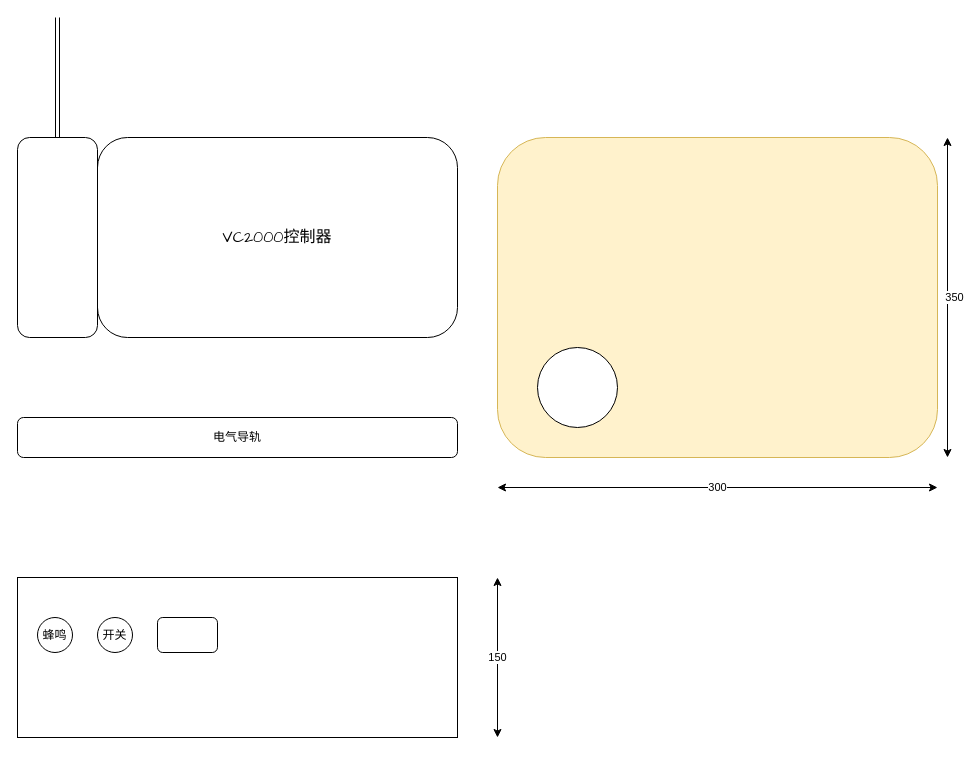
The diagram is 980 pixels wide and 764 high, and some of its shapes have lost their labels. The shapes that lost their labels are listed below. From the top down, each one's centre as x and y in pixels, then its label:
At point (57, 237): "电源".
At point (187, 634): "USB".
